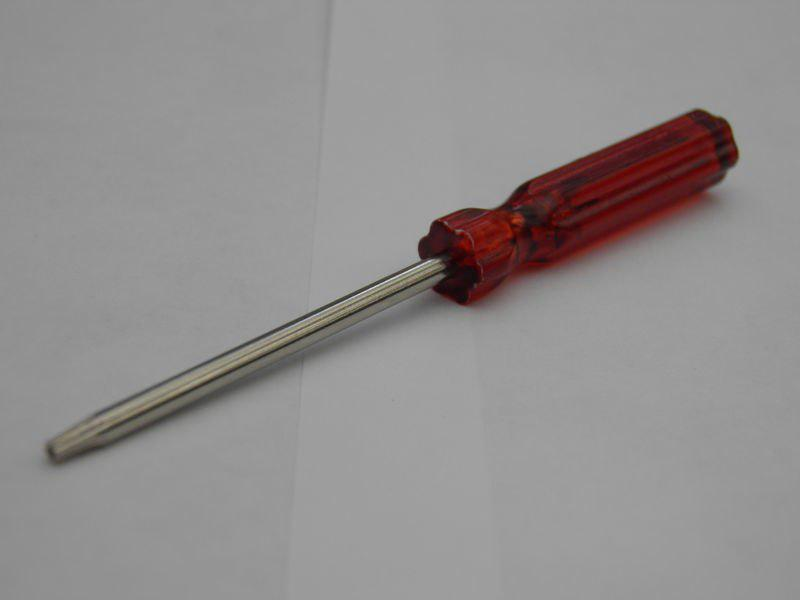Screwdriver: (44, 106, 739, 474)
